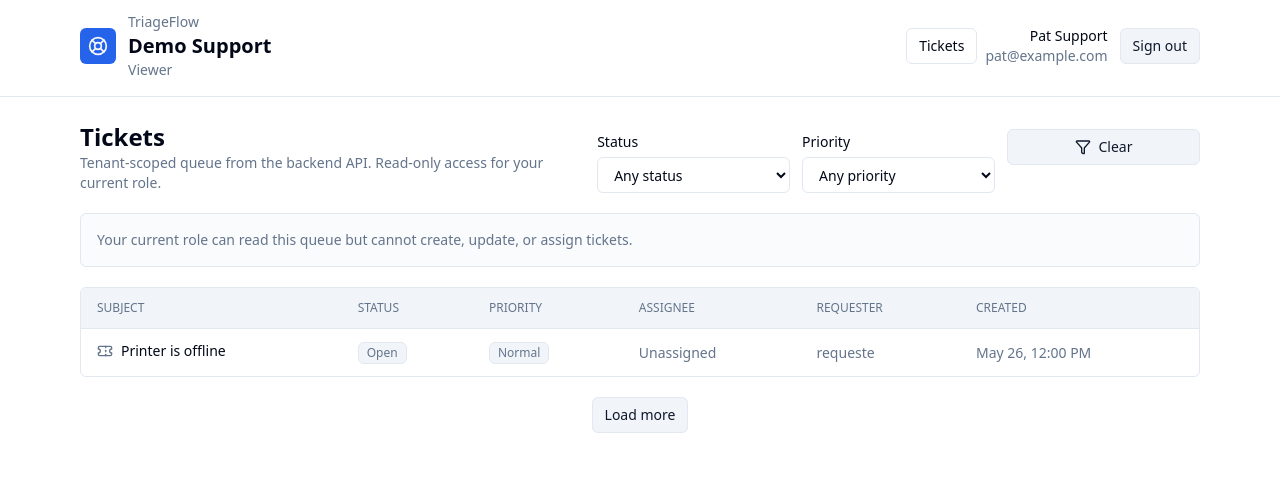
Test case: permission-aware ticket UI › loads another cursor page into the ticket list
Expected: the link "Printer is offline" is shown, [97,341,226,361]
Click the button "Load more". click: (640, 415)
box: [592,397,688,433]
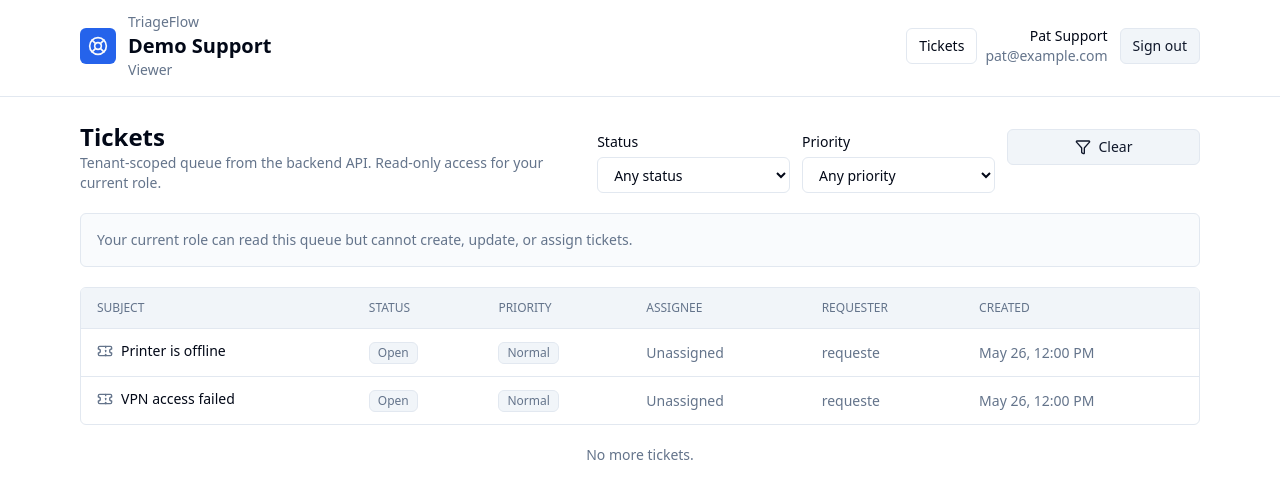
Expected: the link "VPN access failed" is shown, [97,389,235,409]
Expected: the text "No more tickets." is shown, [586,445,694,465]
